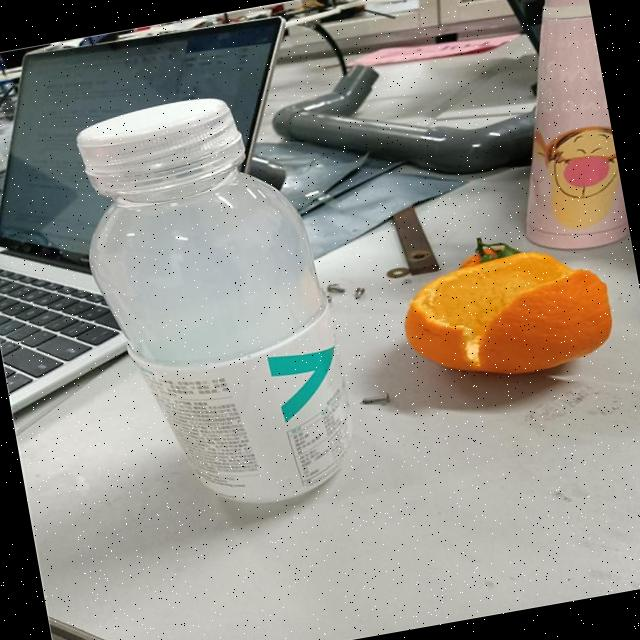orange-peel: (392, 232, 619, 394)
